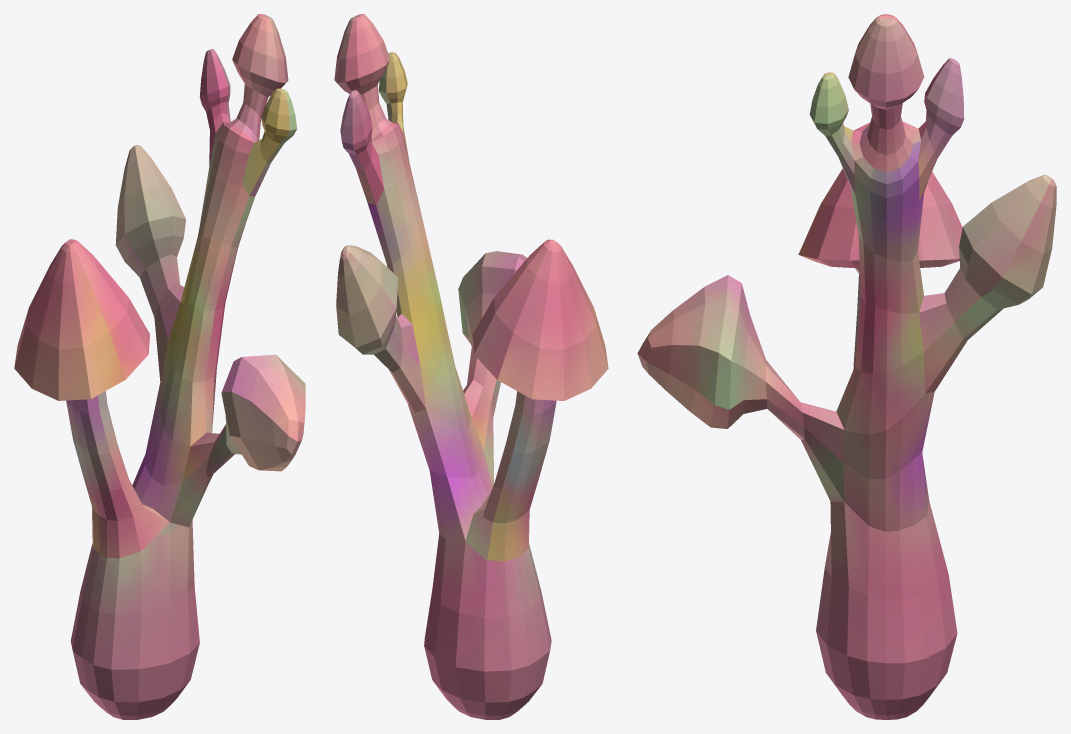
File: hongoarbolstatic.glb
The picture shows the model from 3 angles, left to right: view 1: azimuth 30°, elevation 25°; view 2: azimuth 150°, elevation 25°; view 3: azimuth 270°, elevation 25°; orthographic projection. The views are drawn at different scales.
Parts seen in each view (by area): view 1: hongo_arbol; view 2: hongo_arbol; view 3: hongo_arbol.
Part boxes in pixels (left/top/right/bottom): hongo_arbol: left=14, top=14, right=305, bottom=719; hongo_arbol: left=334, top=14, right=608, bottom=719; hongo_arbol: left=637, top=14, right=1056, bottom=719.
Size of what is drawn, in the model's own units: 2 by 5 by 2.5.
1 material, 1 textured.
